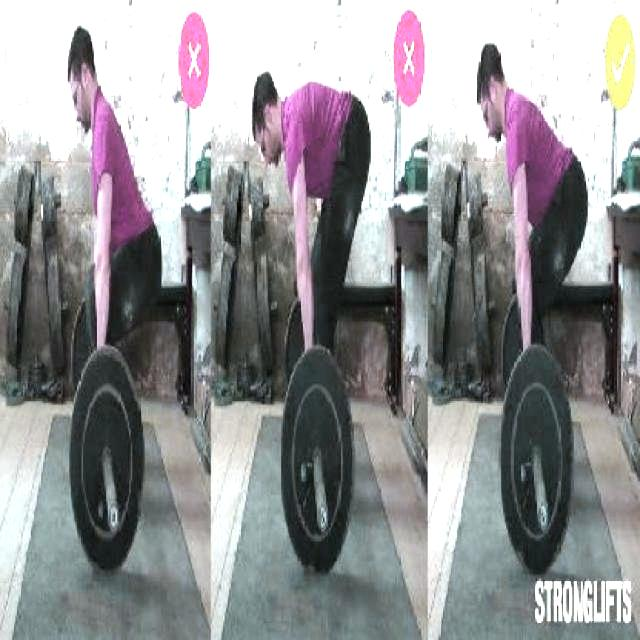barbell: (60, 342, 150, 580), (275, 337, 360, 587), (492, 342, 580, 577)
